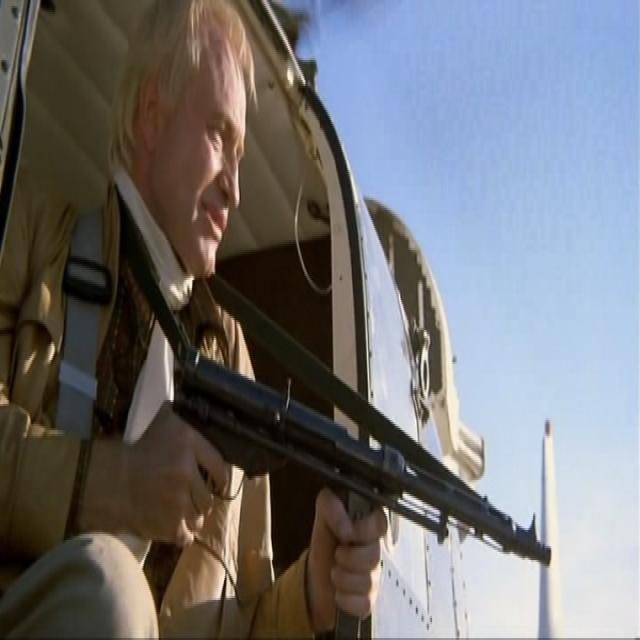rifle: (174, 341, 558, 640)
